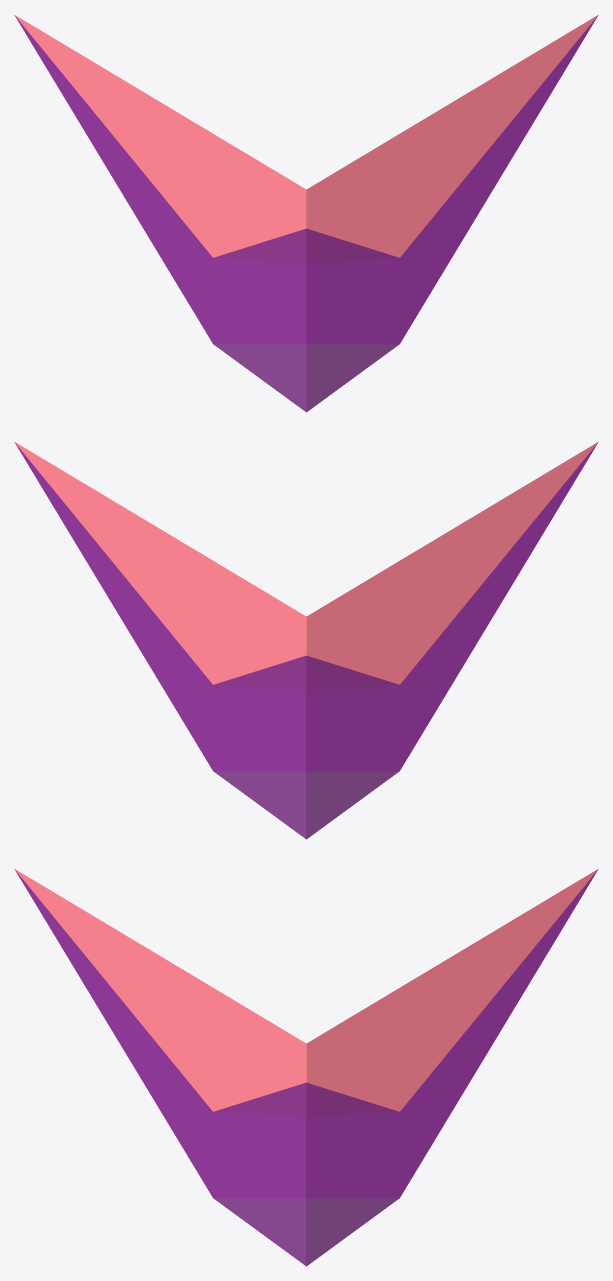
The model's file is pipa3pnc.obj.
The picture shows the model from 3 angles, top to bottom: view 1: azimuth 30°, elevation 25°; view 2: azimuth 150°, elevation 25°; view 3: azimuth 270°, elevation 25°; orthographic projection.
Bounding box in the file's own units: 4.7 × 2.88 × 5.43.
